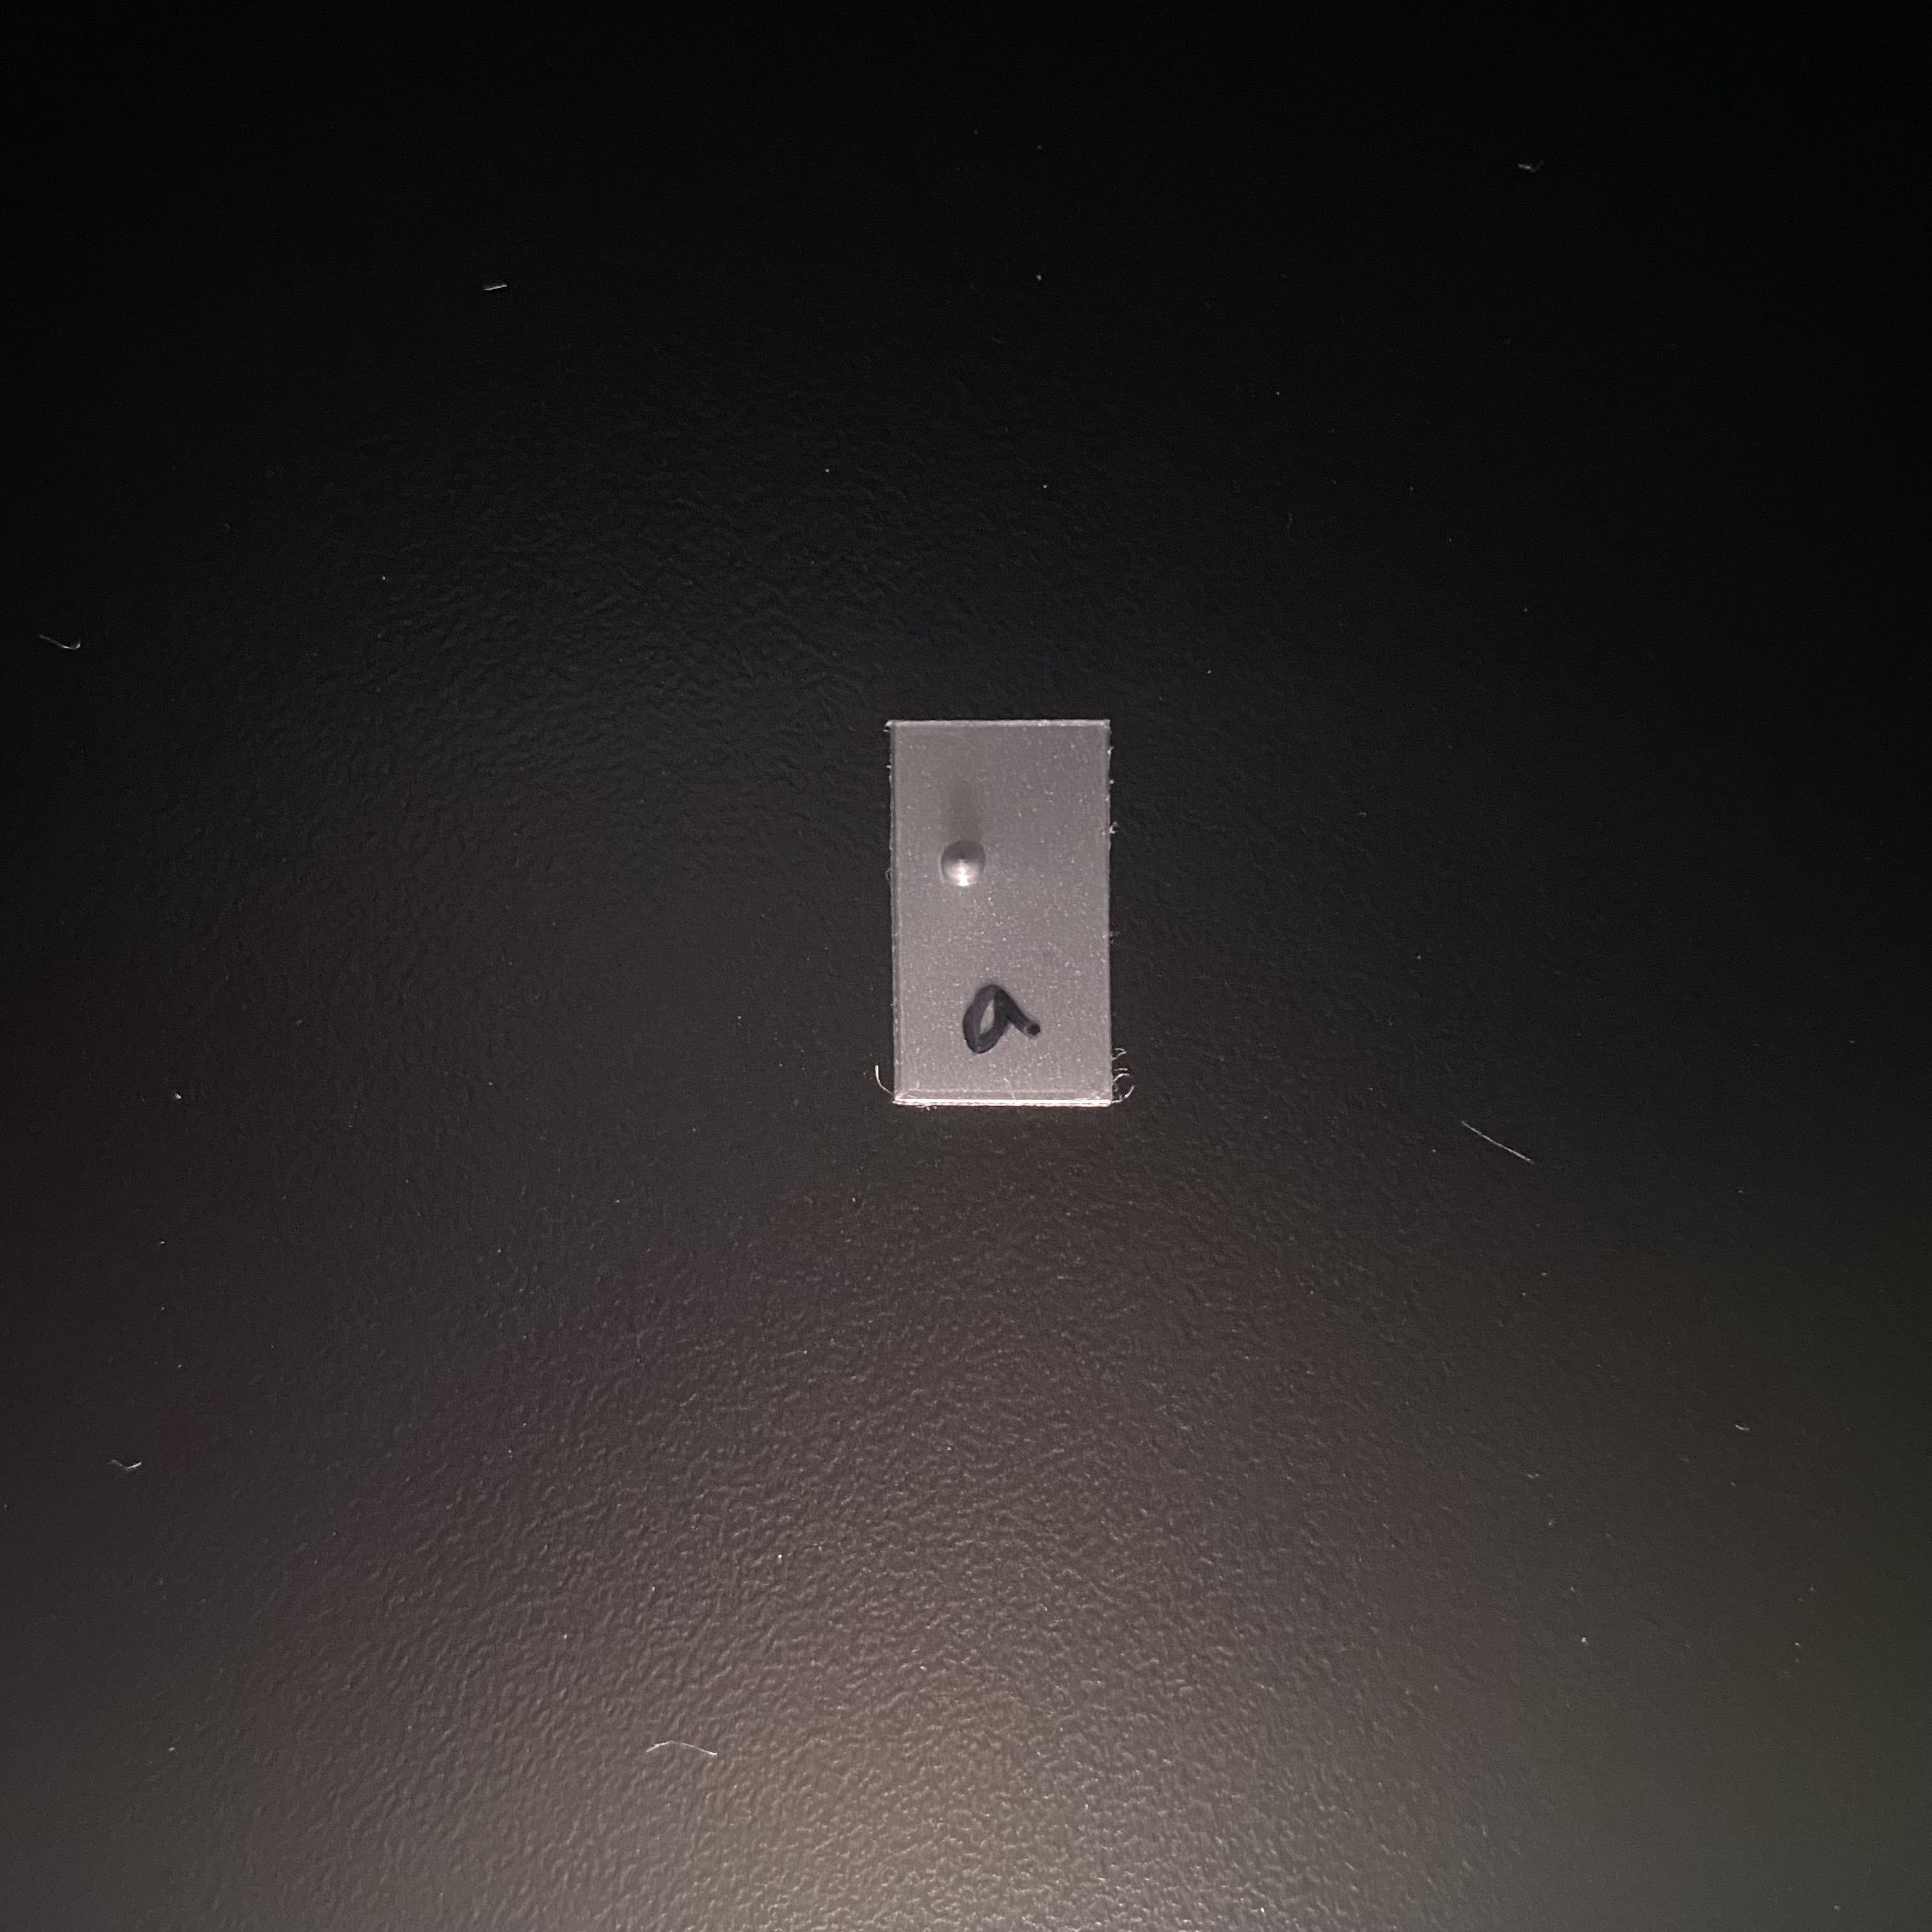a: (924, 815, 1071, 1055)
